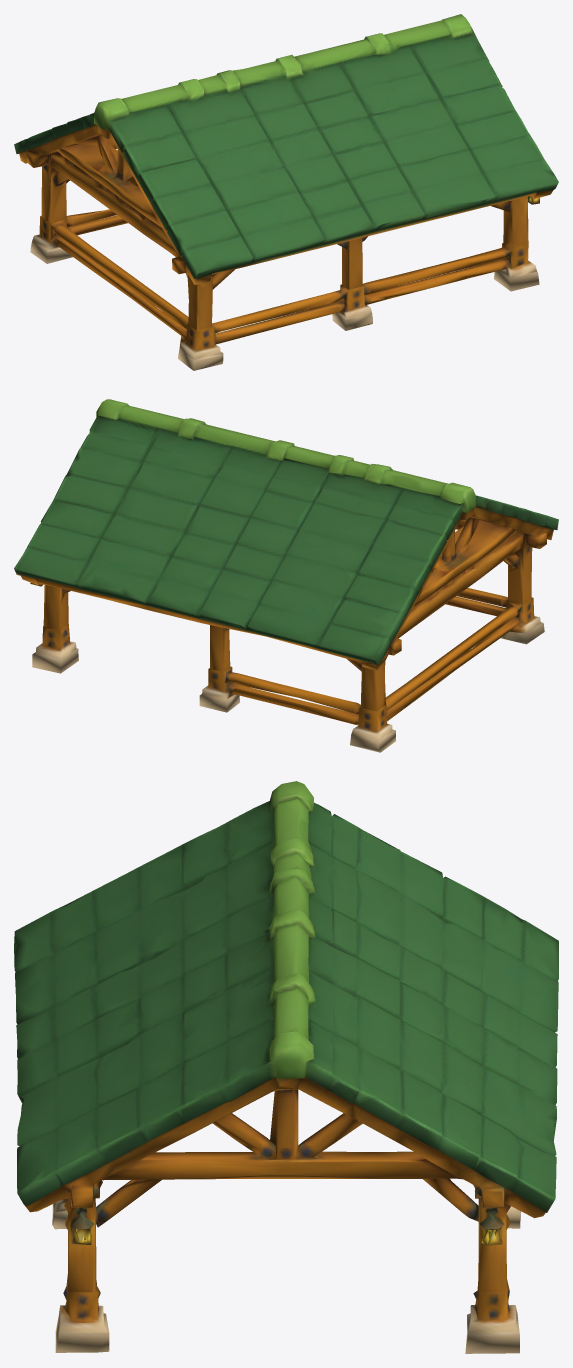
Rendered from textures.glb.
3 renders of one model, top to bottom at view 1: azimuth 30°, elevation 25°; view 2: azimuth 150°, elevation 25°; view 3: azimuth 270°, elevation 25°, orthographic. The views are drawn at different scales.
Parts seen in each view (by area): view 1: tripo_node_05e11380-312c-4cb9-b832-2d1d737cda8b; view 2: tripo_node_05e11380-312c-4cb9-b832-2d1d737cda8b; view 3: tripo_node_05e11380-312c-4cb9-b832-2d1d737cda8b.
Part boxes in pixels (bbox=[...]): tripo_node_05e11380-312c-4cb9-b832-2d1d737cda8b: bbox=[14, 14, 558, 370]; tripo_node_05e11380-312c-4cb9-b832-2d1d737cda8b: bbox=[14, 399, 558, 752]; tripo_node_05e11380-312c-4cb9-b832-2d1d737cda8b: bbox=[14, 781, 558, 1353].
Bounding box in the file's own units: 1 × 0.5436 × 0.8525.
1 material, 1 textured.
